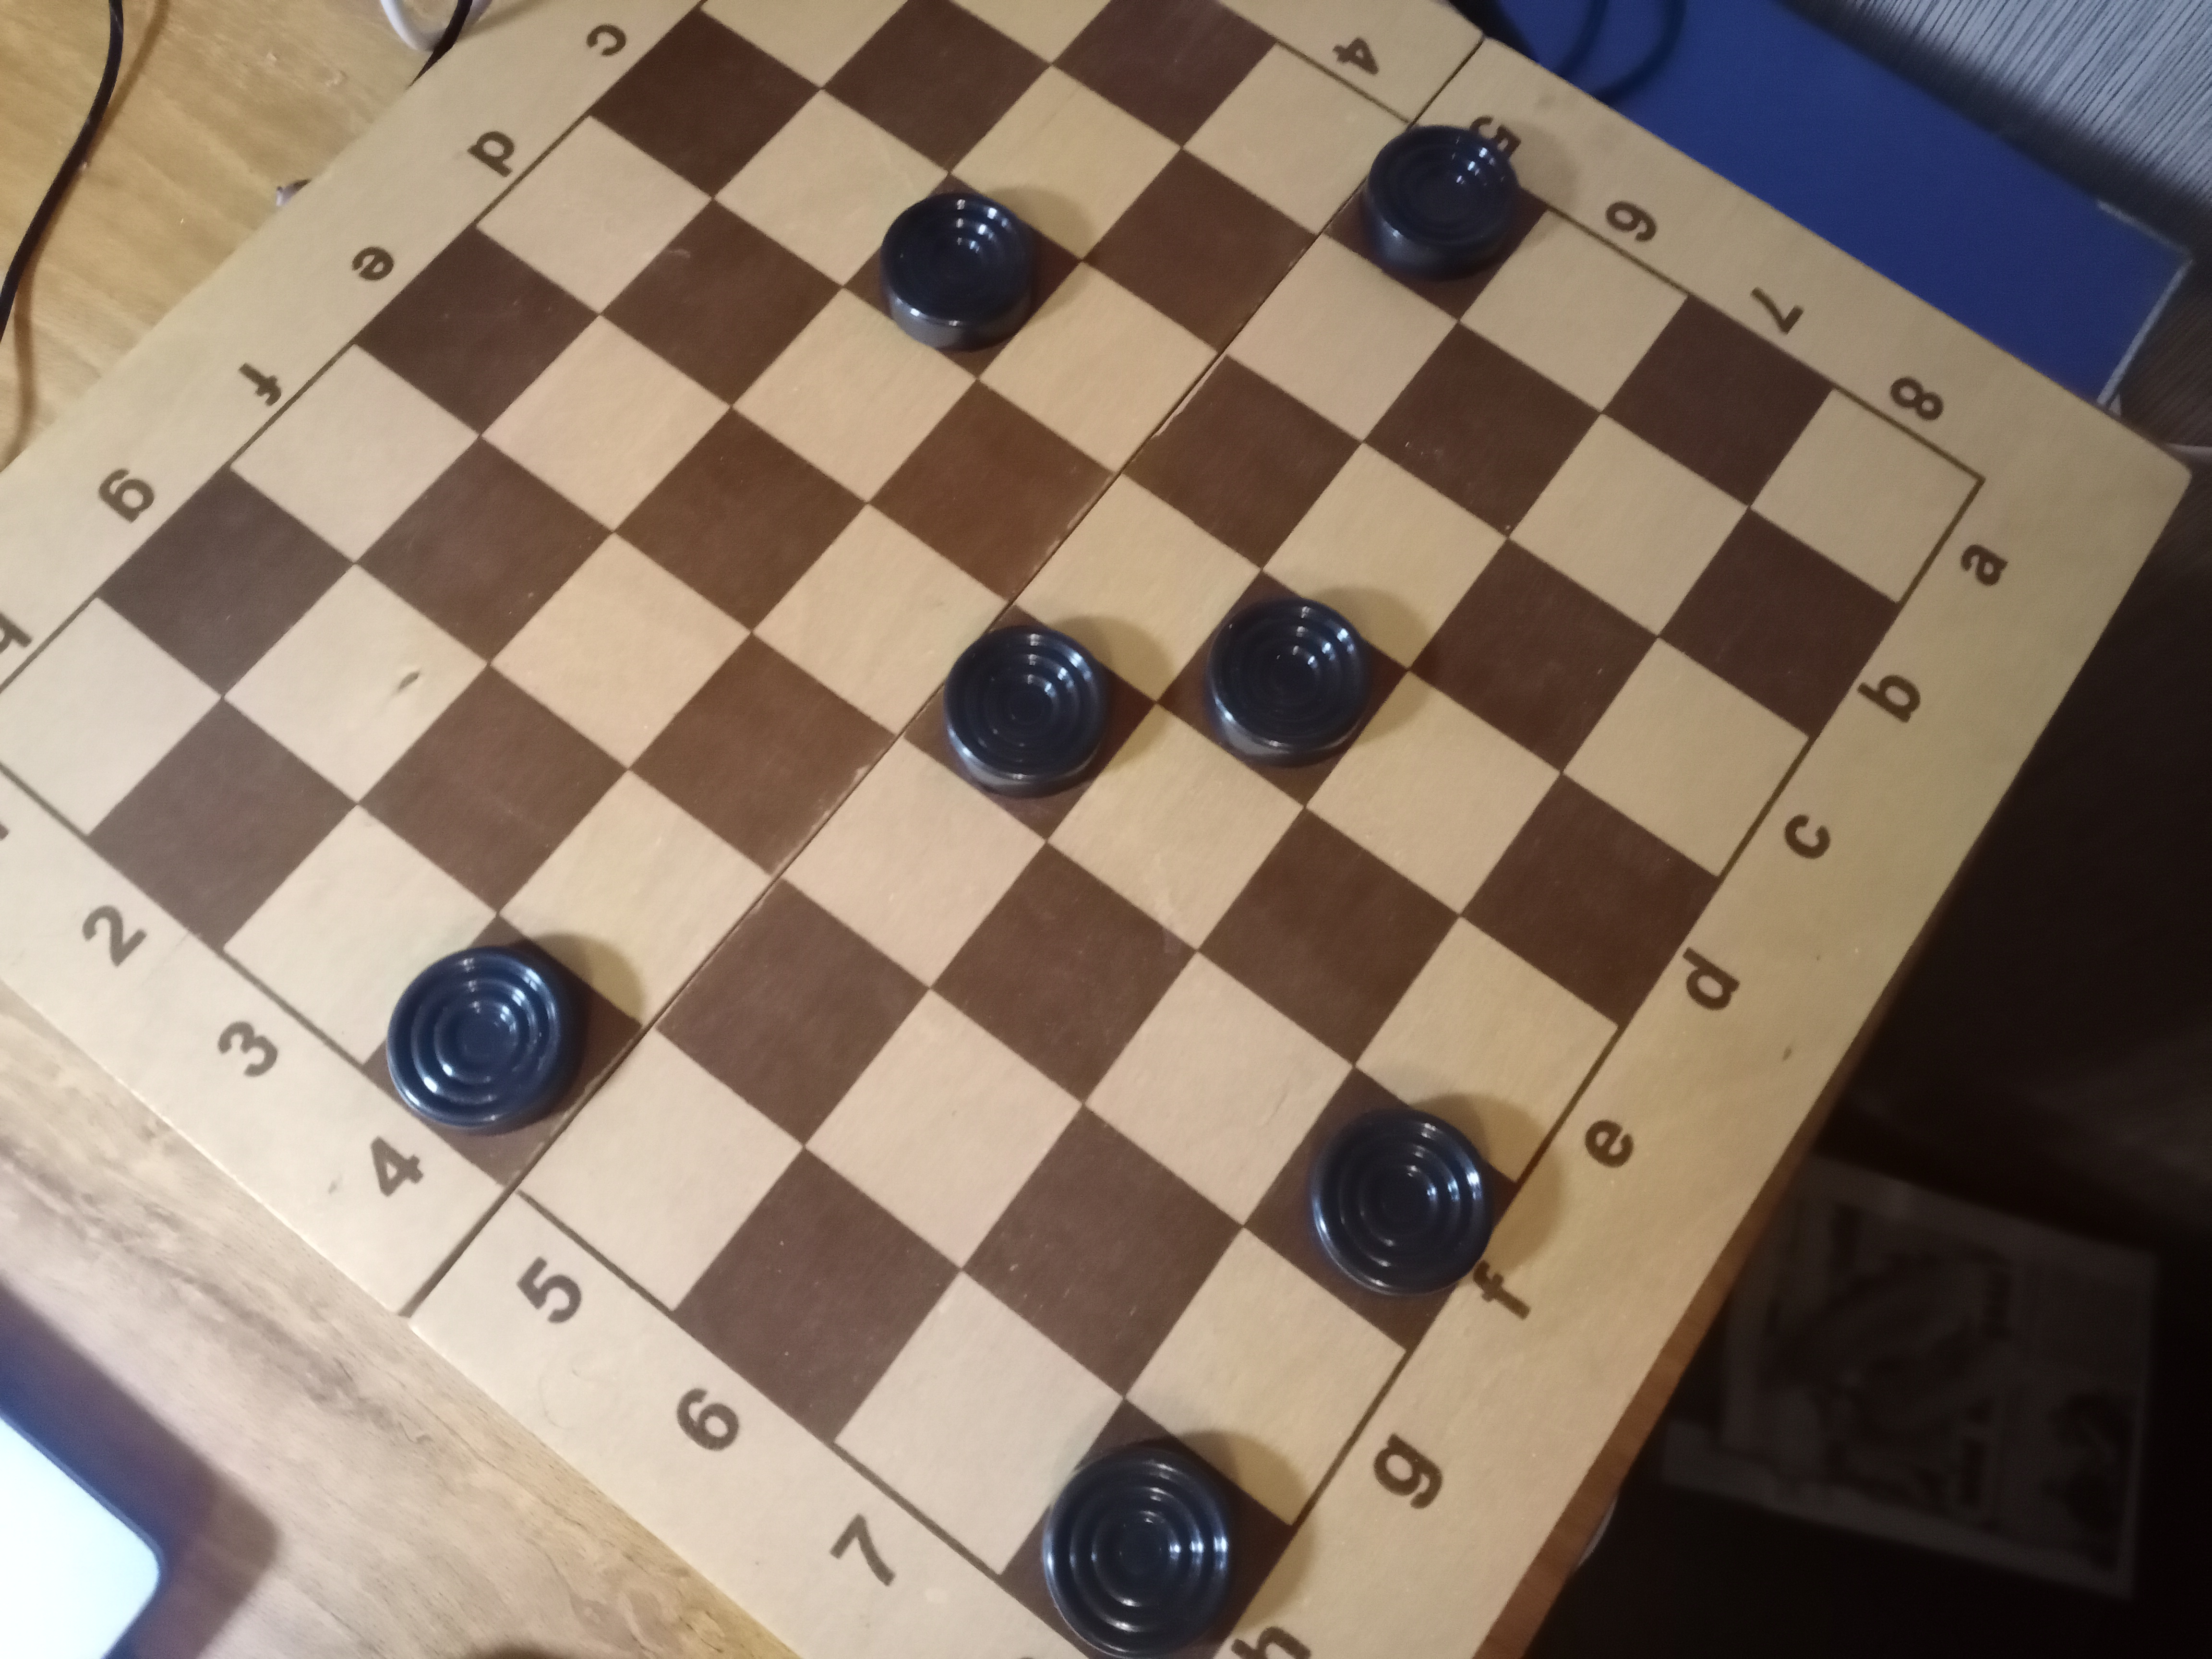Black_Draught: (364, 915, 648, 1194), (1245, 1066, 1517, 1349), (998, 1399, 1292, 1659), (900, 603, 1158, 842), (1158, 568, 1413, 809), (843, 173, 1080, 382), (1320, 125, 1554, 319)
